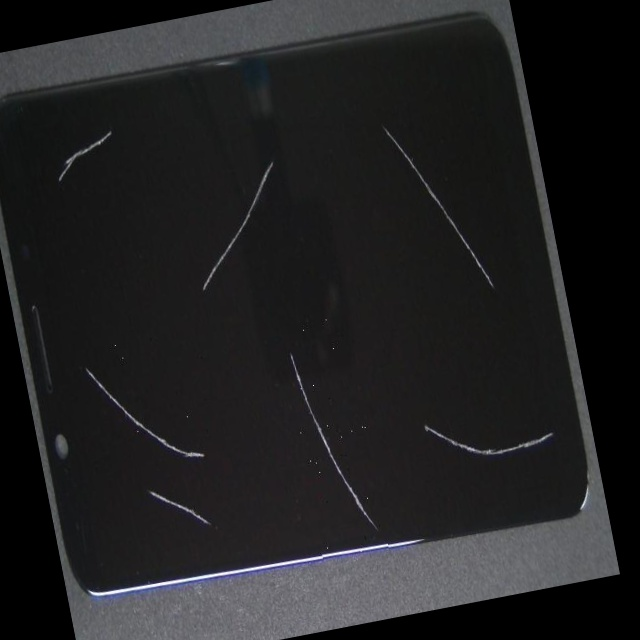scratch: (114, 109, 443, 545), (17, 163, 135, 524)
